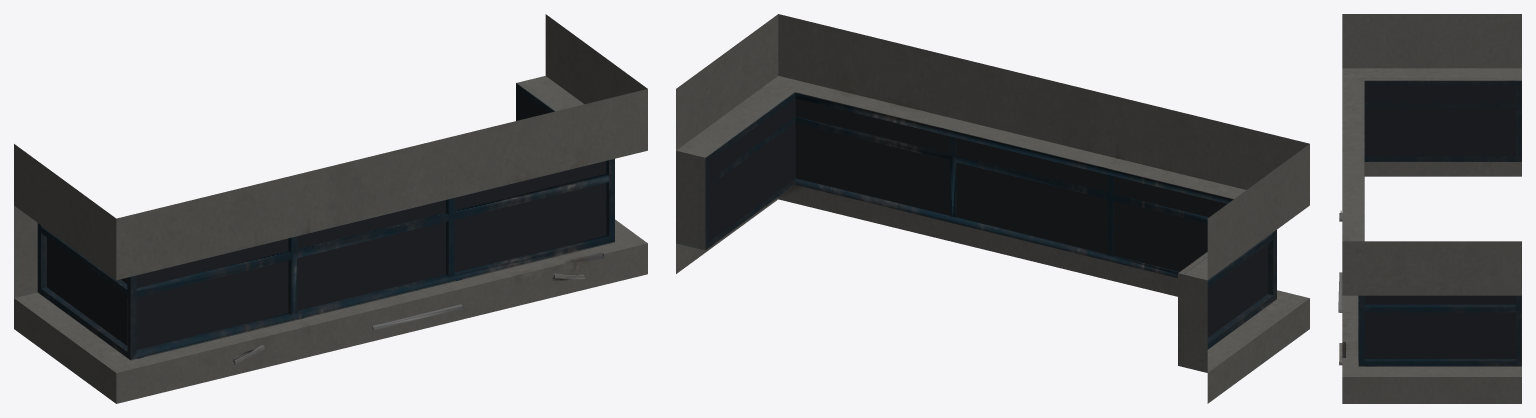
The model's file is sm_cb01_module09.glb.
3 views of the same model, side by side, from view 1: azimuth 30°, elevation 25°; view 2: azimuth 150°, elevation 25°; view 3: azimuth 270°, elevation 25° (orthographic). The views are drawn at different scales.
Visible parts, largest first — view 1: sm_cb01_module09_00; view 2: sm_cb01_module09_00; view 3: sm_cb01_module09_00.
Part boxes in pixels (x1,y1,x2,y2): sm_cb01_module09_00: (14, 14, 647, 403); sm_cb01_module09_00: (676, 14, 1309, 403); sm_cb01_module09_00: (1338, 14, 1521, 403).
Size of the model in its own units: 9 by 3 by 3.07.
Materials: 2 (1 with a texture image).
